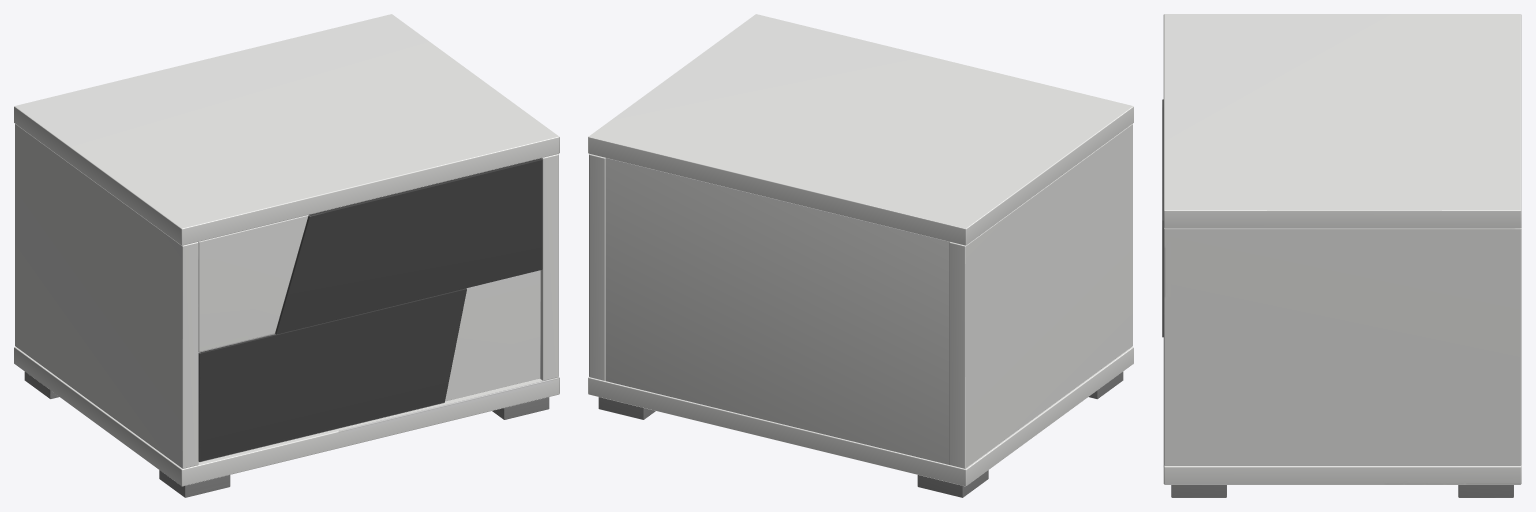
The model's file is table_B07H8JN9KN.glb.
3 views of the same model, side by side, from view 1: azimuth 30°, elevation 25°; view 2: azimuth 150°, elevation 25°; view 3: azimuth 270°, elevation 25° (orthographic). The views are drawn at different scales.
Visible parts, largest first — view 1: RootNode; view 2: RootNode; view 3: RootNode.
Part boxes in pixels (left/top/right/bottom): RootNode: left=14, top=14, right=559, bottom=497; RootNode: left=588, top=14, right=1133, bottom=497; RootNode: left=1162, top=14, right=1521, bottom=497.
Size of the model in its own units: 0.517 by 0.3574 by 0.3991.
1 material, 1 textured.
